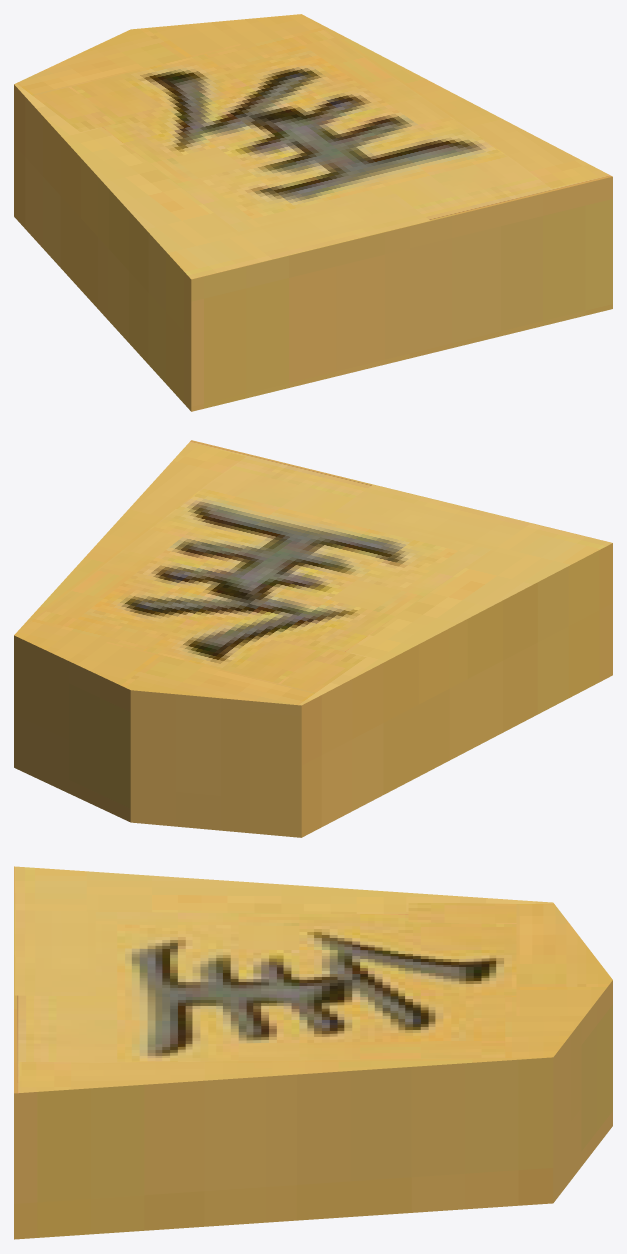
The model's file is GIN_01.fbx.
The picture shows the model from 3 angles, top to bottom: view 1: azimuth 30°, elevation 25°; view 2: azimuth 150°, elevation 25°; view 3: azimuth 270°, elevation 25°; orthographic projection. The views are drawn at different scales.
Parts seen in each view (by area): view 1: Circle; view 2: Circle; view 3: Circle.
Boxes of the visible parts, left/top/right/bottom form: Circle: left=14, top=14, right=612, bottom=411; Circle: left=14, top=440, right=612, bottom=837; Circle: left=14, top=866, right=612, bottom=1239.
Size of the model in its own units: 100 by 30 by 112.
